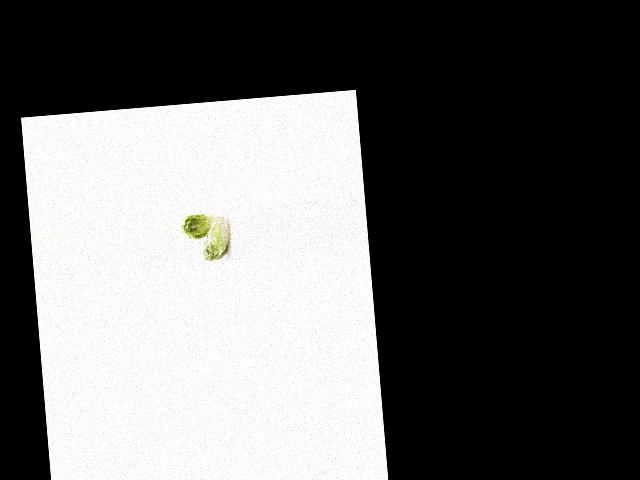lettuce: (197, 212, 233, 264)
